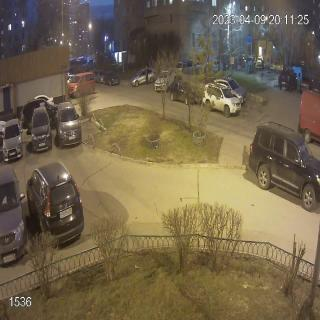Car: (248, 121, 320, 212), (26, 160, 84, 248), (0, 164, 28, 266), (202, 81, 241, 118), (55, 101, 82, 148), (298, 89, 320, 144), (30, 106, 52, 152), (2, 118, 24, 162), (214, 76, 246, 105), (67, 72, 95, 98), (169, 81, 196, 105), (130, 66, 156, 86), (40, 99, 59, 125), (278, 68, 297, 91), (154, 70, 170, 92), (182, 60, 202, 74), (103, 71, 120, 86), (90, 69, 104, 83), (300, 77, 310, 92), (82, 58, 96, 68), (0, 121, 6, 144), (67, 74, 75, 84)
